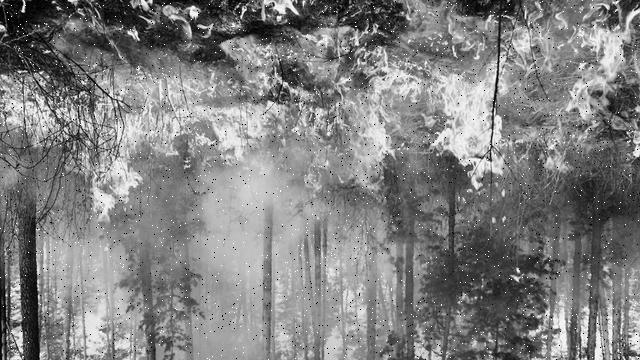fire: (3, 0, 640, 231)
